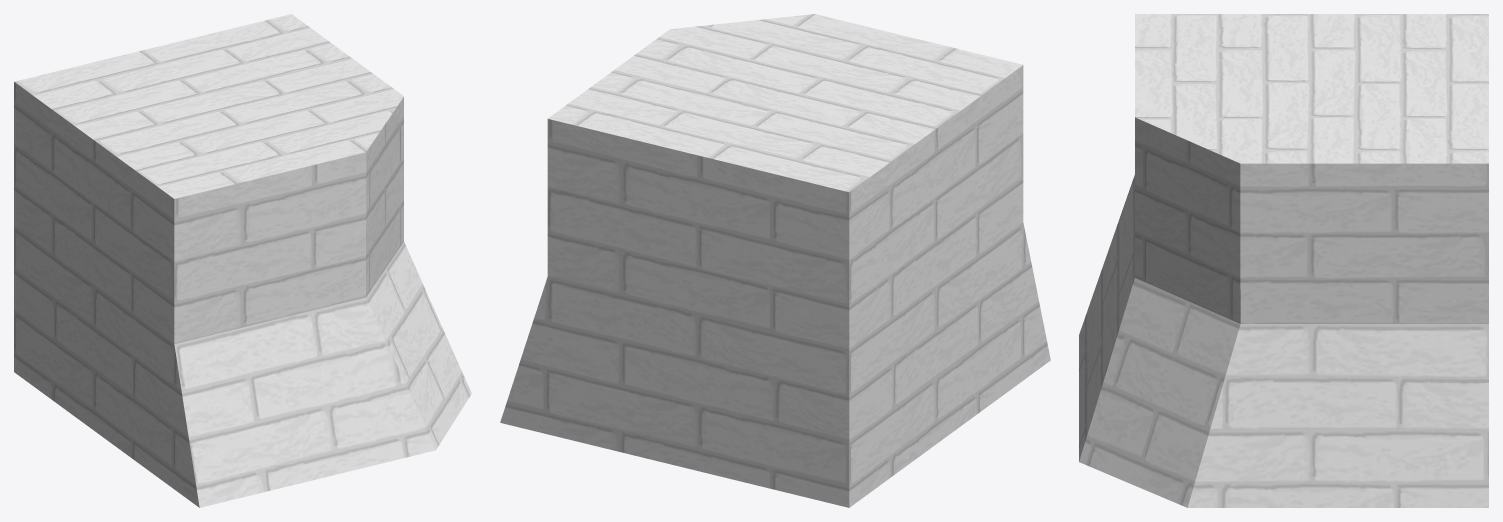
Rendered from castle_type_i.gltf.
3 views of the same model, side by side, from view 1: azimuth 30°, elevation 25°; view 2: azimuth 150°, elevation 25°; view 3: azimuth 270°, elevation 25° (orthographic). The views are drawn at different scales.
Parts seen in each view (by area): view 1: Type_I; view 2: Type_I; view 3: Type_I.
Boxes of the visible parts, <box> form: Type_I: <box>14,14,471,507</box>; Type_I: <box>500,14,1050,507</box>; Type_I: <box>1079,14,1488,507</box>.
Size of the model in its own units: 1.16 by 1 by 1.16.
Materials: 1 (1 with a texture image).
